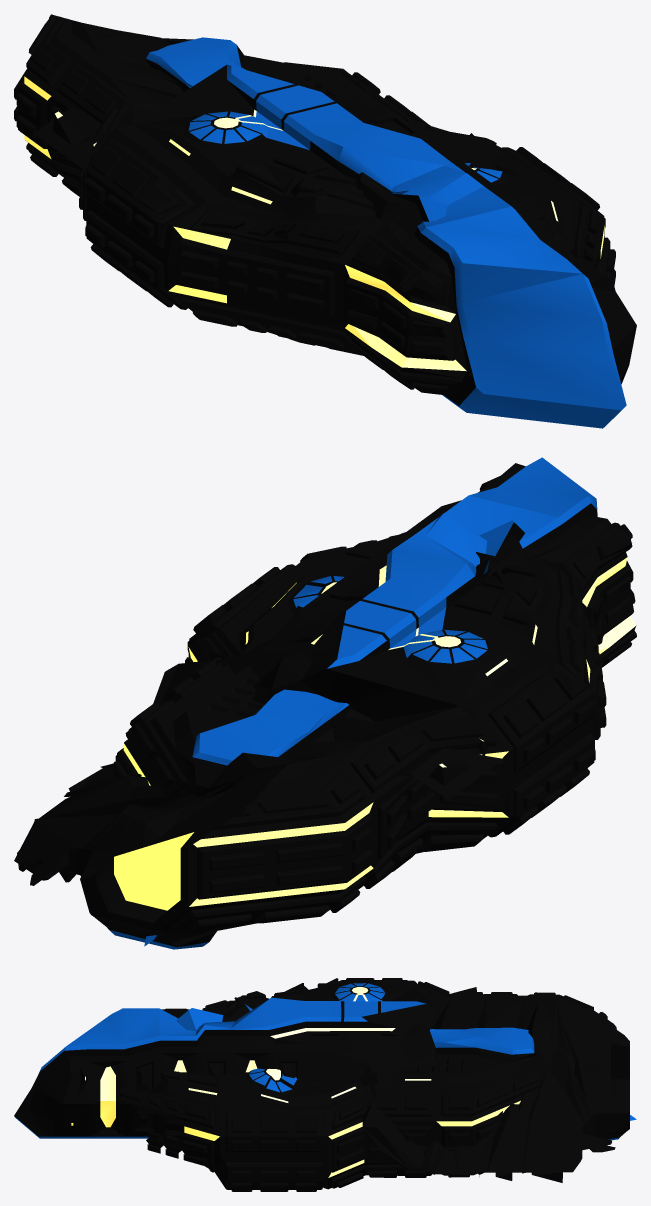
File: 01_ship_heavy_ekudon_husk_A.glb
The picture shows the model from 3 angles, top to bottom: view 1: azimuth 30°, elevation 25°; view 2: azimuth 150°, elevation 25°; view 3: azimuth 270°, elevation 25°; orthographic projection. The views are drawn at different scales.
Parts seen in each view (by area): view 1: 01_ship_heavy_ekudon_husk_A, 01_ship_heavy_ekudon_husk_B, 01_ship_heavy_ekudon_husk_C; view 2: 01_ship_heavy_ekudon_husk_A, 01_ship_heavy_ekudon_husk_B, 01_ship_heavy_ekudon_husk_C; view 3: 01_ship_heavy_ekudon_husk_A, 01_ship_heavy_ekudon_husk_B, 01_ship_heavy_ekudon_husk_C.
Boxes of the visible parts, <box> form: 01_ship_heavy_ekudon_husk_A: <box>14,14,636,428</box>; 01_ship_heavy_ekudon_husk_B: <box>33,37,615,285</box>; 01_ship_heavy_ekudon_husk_C: <box>342,172,447,233</box>; 01_ship_heavy_ekudon_husk_A: <box>14,457,636,949</box>; 01_ship_heavy_ekudon_husk_B: <box>113,532,503,799</box>; 01_ship_heavy_ekudon_husk_C: <box>144,520,528,946</box>; 01_ship_heavy_ekudon_husk_A: <box>14,978,629,1182</box>; 01_ship_heavy_ekudon_husk_B: <box>117,987,543,1191</box>; 01_ship_heavy_ekudon_husk_C: <box>176,1003,636,1120</box>.
Bounding box in the file's own units: 0.4861 × 0.2469 × 1.02.
